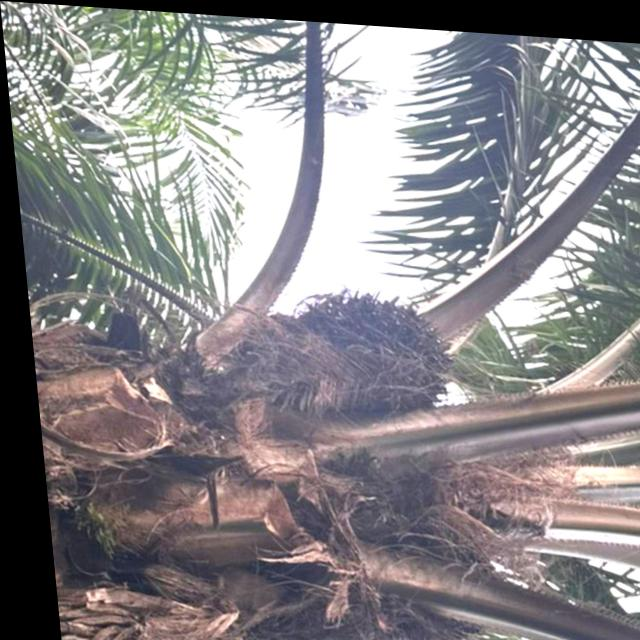unripe: (276, 272, 459, 415)
